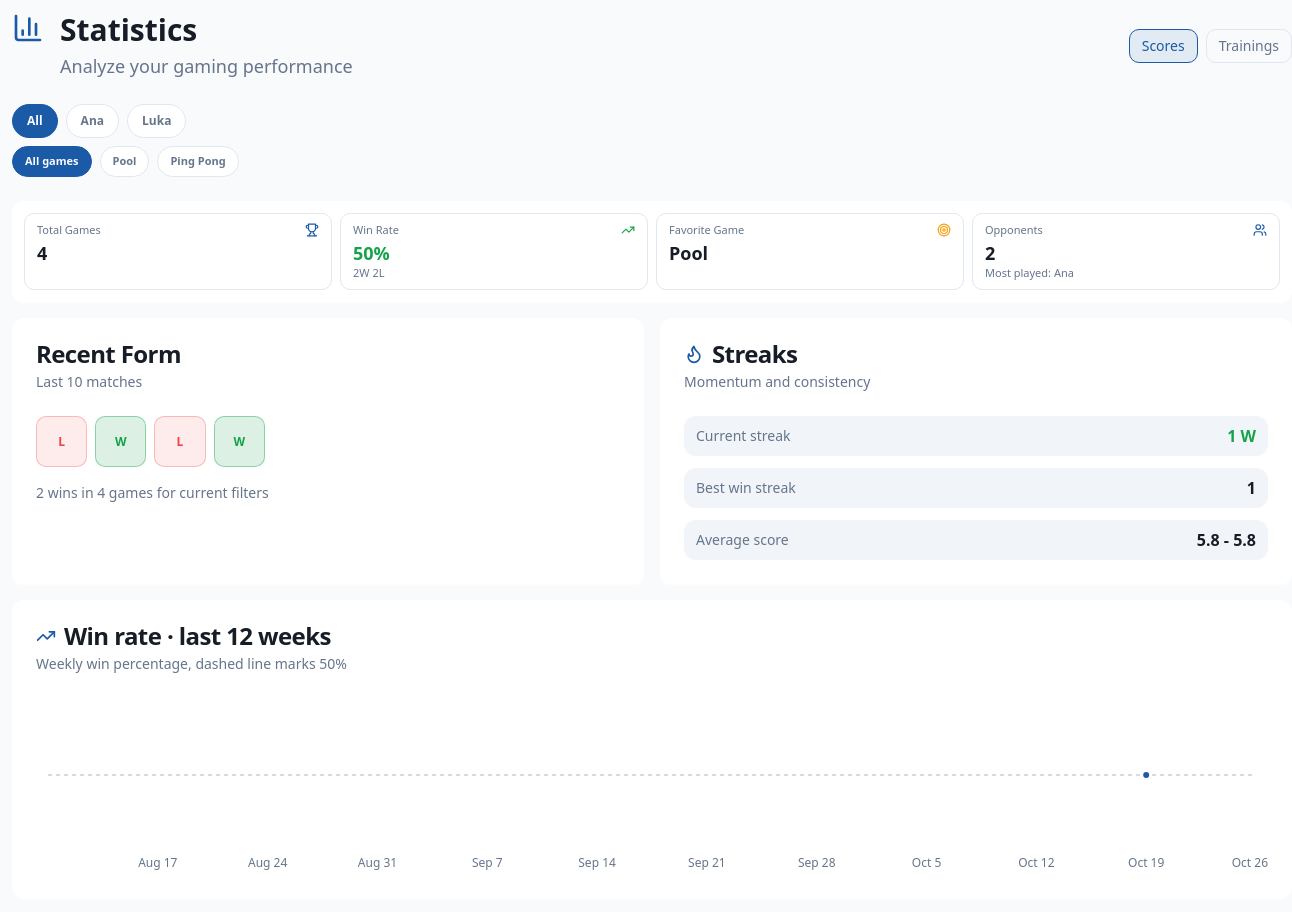
Test case: StatisticsPage › shows pool type chips only while Pool is the selected game
Expected: the heading "Recent Form" is shown, [36,337,181,370]
Expected: the button "8-Ball" is not shown
Step 1. Click the button "Pool" → click(124, 161), box [100,146,149,176]
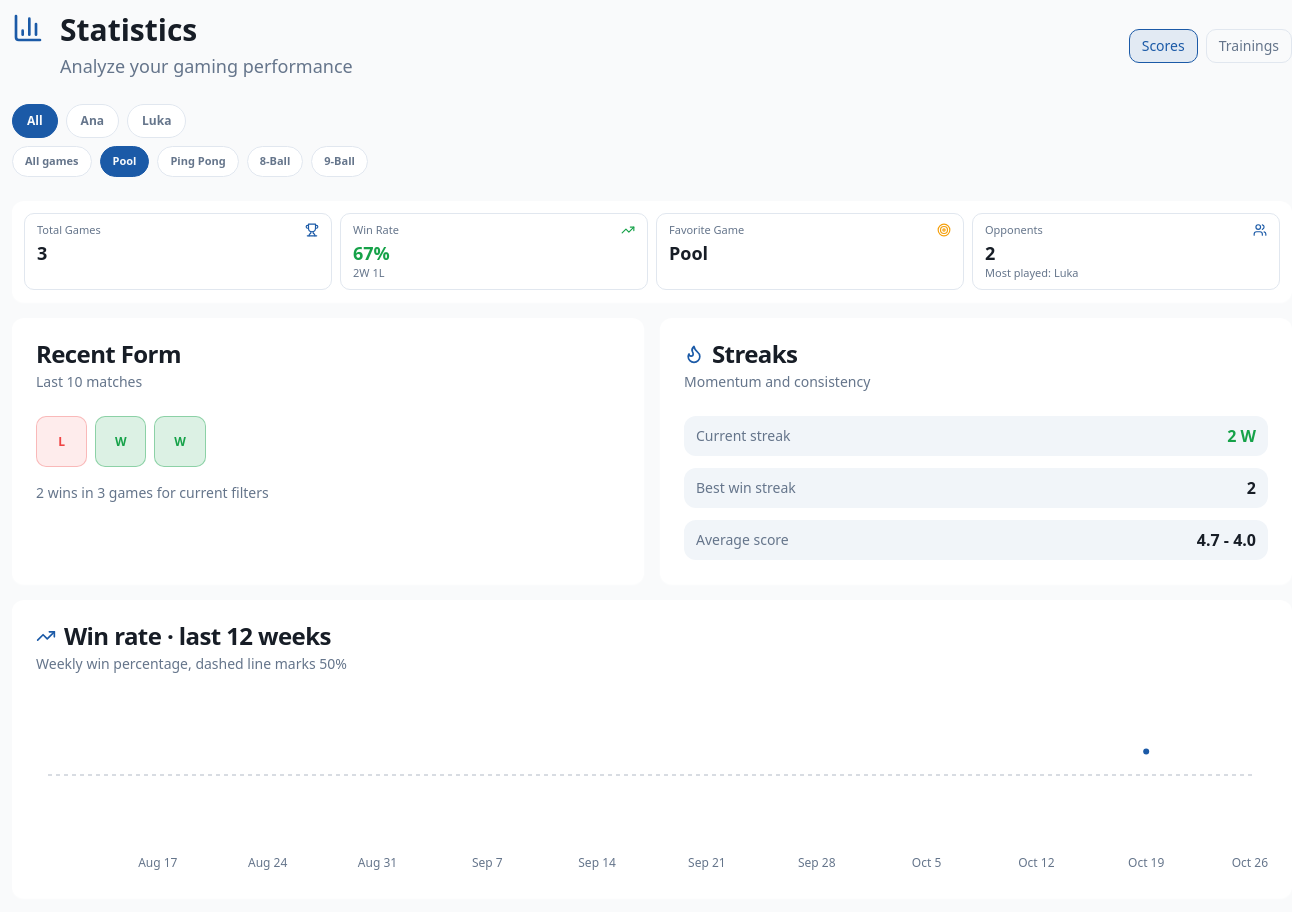
Expected: the button "8-Ball" is shown
Step 2. Click the button "8-Ball" → click(275, 161), box [247,146,303,176]
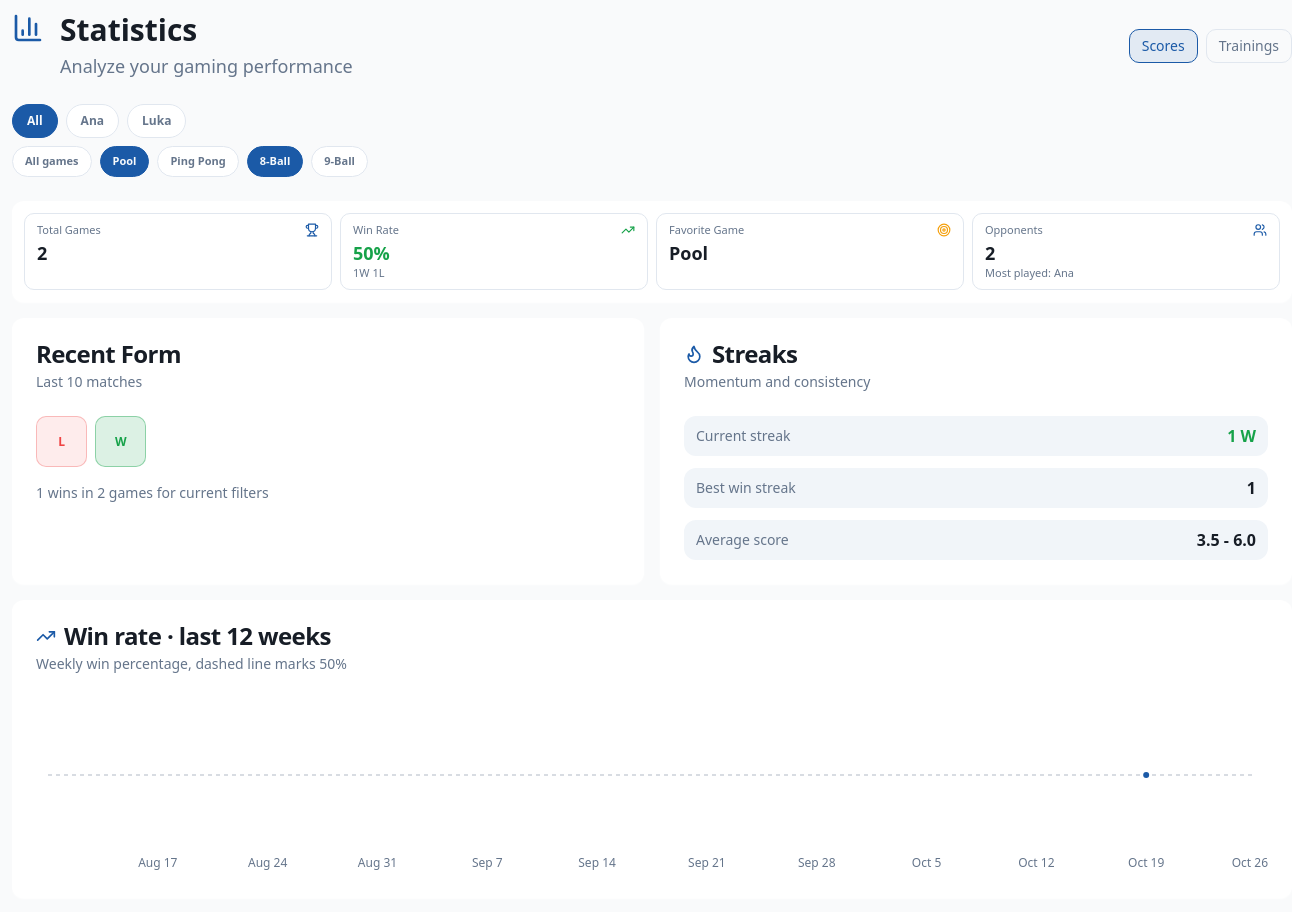
Expected: the text "1 wins in 2 games for current filters" is shown, [36,483,269,502]
Step 3. Click the button "Ping Pong" → click(198, 161), box [157,146,239,176]
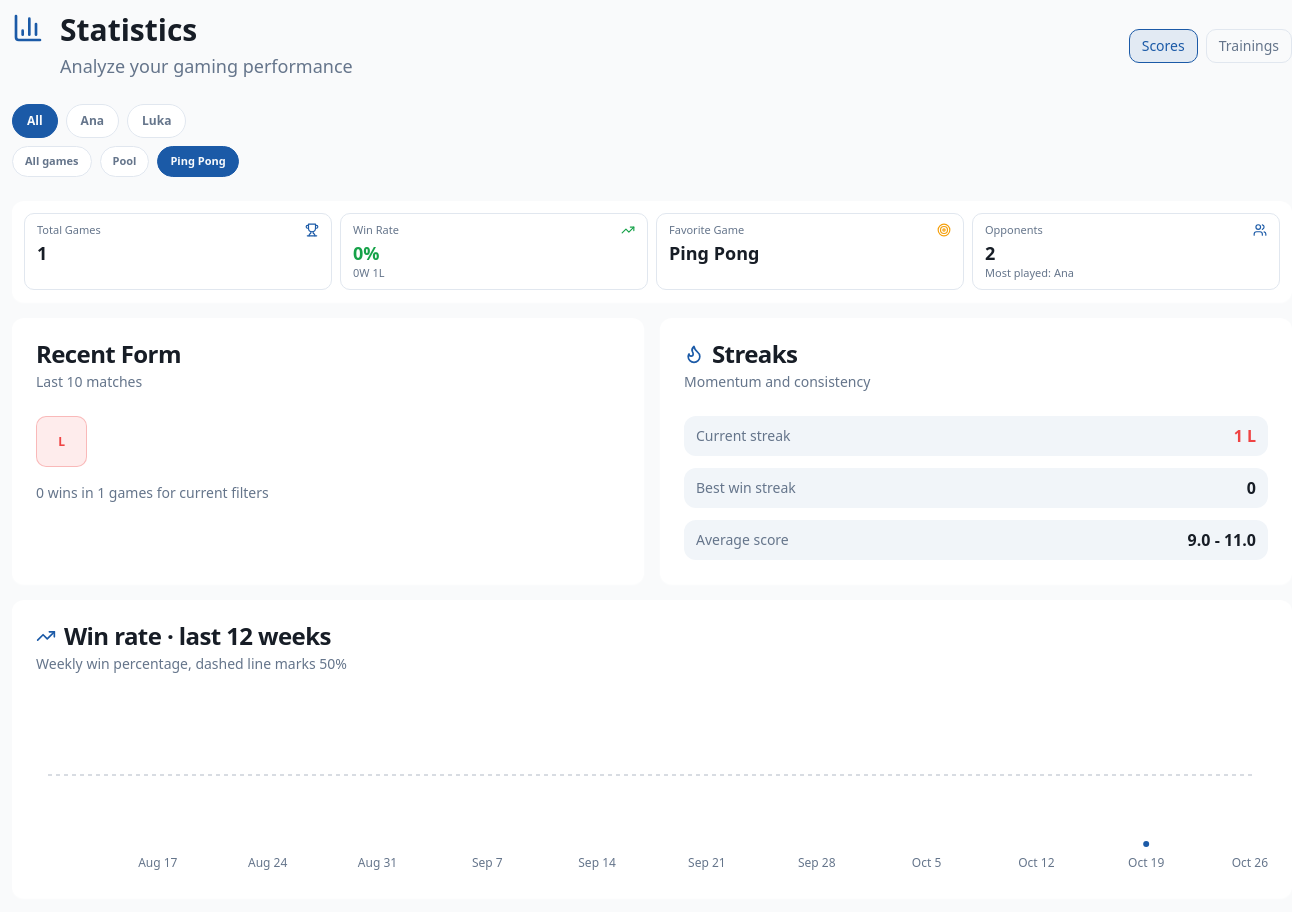
Expected: the button "8-Ball" is gone
